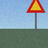sign: (26, 0, 45, 36)
